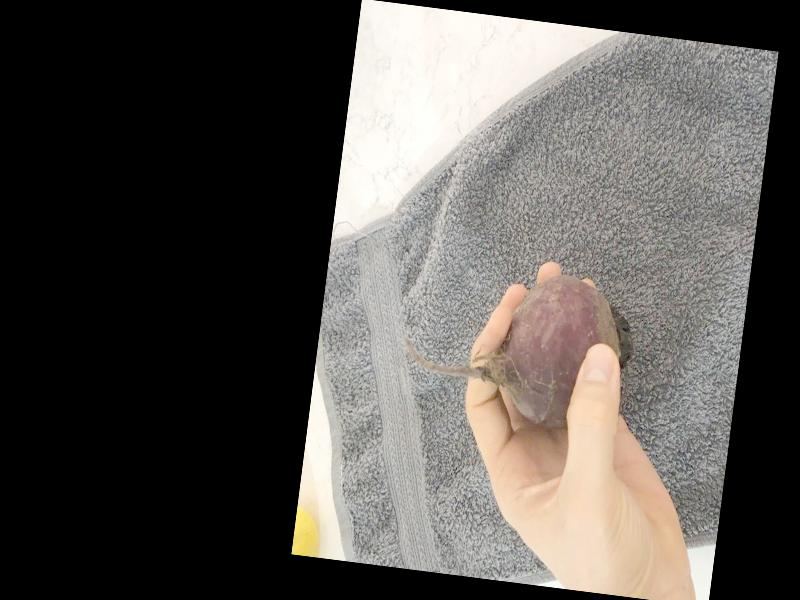Beet: (394, 256, 640, 437)
